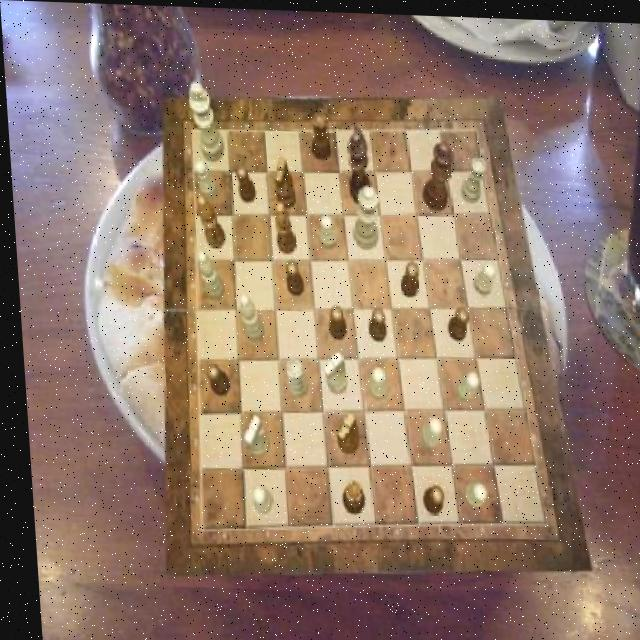bishop: (194, 195, 223, 248), (272, 200, 293, 253)
black-bishop: (344, 125, 371, 203)
black-king: (272, 155, 295, 209), (330, 409, 355, 452)
black-knight: (441, 303, 466, 338), (233, 164, 254, 202), (202, 362, 226, 395), (396, 259, 417, 294), (282, 257, 301, 294), (363, 306, 383, 340), (323, 303, 342, 338), (415, 484, 438, 512)
black-pawn: (417, 136, 455, 208)
black-queen: (308, 112, 330, 160), (336, 478, 360, 513)
black-rook: (195, 250, 222, 300), (234, 293, 260, 341)
white-bishop: (187, 81, 223, 162)
white-king: (238, 414, 265, 456), (318, 348, 343, 392)
white-knight: (193, 158, 217, 196), (470, 258, 495, 292), (451, 368, 476, 400), (413, 413, 437, 446), (363, 364, 383, 399), (457, 480, 481, 507), (317, 212, 335, 247), (245, 484, 266, 512)
white-pawn: (349, 182, 380, 247)
white-queen: (458, 153, 487, 200), (281, 357, 304, 397)
